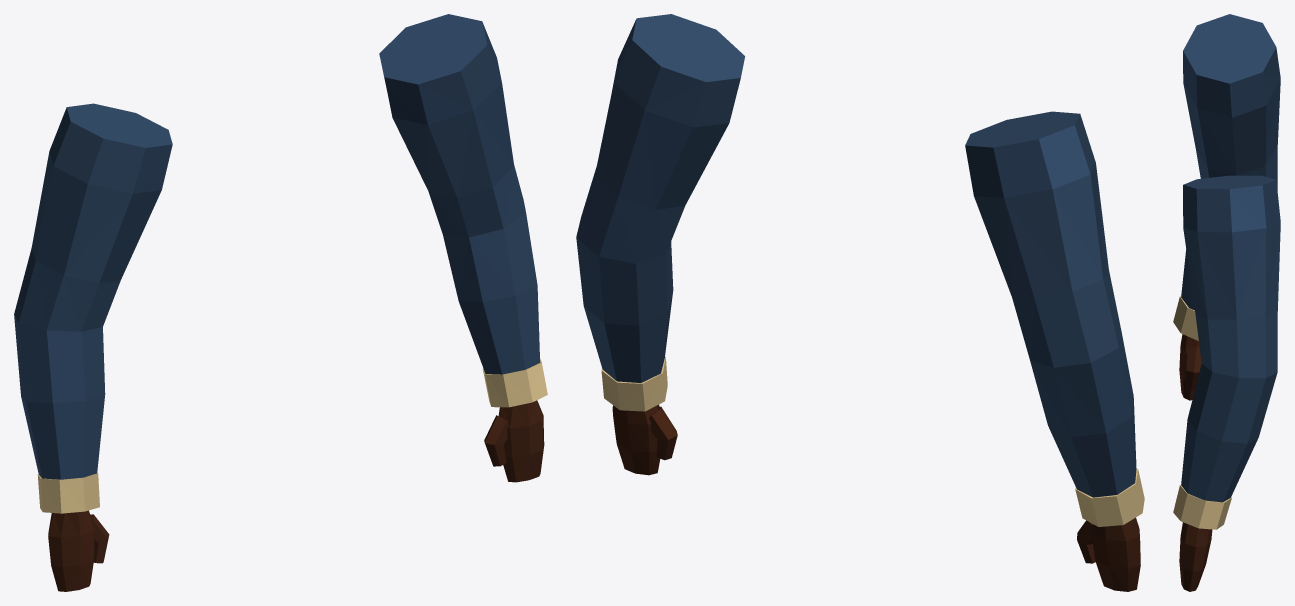
Rendered from EP_Arms_WorkGloves.fbx.
3 renders of one model, left to right at view 1: azimuth 30°, elevation 25°; view 2: azimuth 150°, elevation 25°; view 3: azimuth 270°, elevation 25°, orthographic. The views are drawn at different scales.
Parts seen in each view (by area): view 1: EP_Arms_WorkGloves; view 2: EP_Arms_WorkGloves; view 3: EP_Arms_WorkGloves.
Part boxes in pixels (left/top/right/bottom): EP_Arms_WorkGloves: left=14, top=14, right=547, bottom=591; EP_Arms_WorkGloves: left=576, top=14, right=1144, bottom=591; EP_Arms_WorkGloves: left=1173, top=14, right=1280, bottom=591.
Bounding box in the file's own units: 0.7251 × 0.6055 × 0.152.
